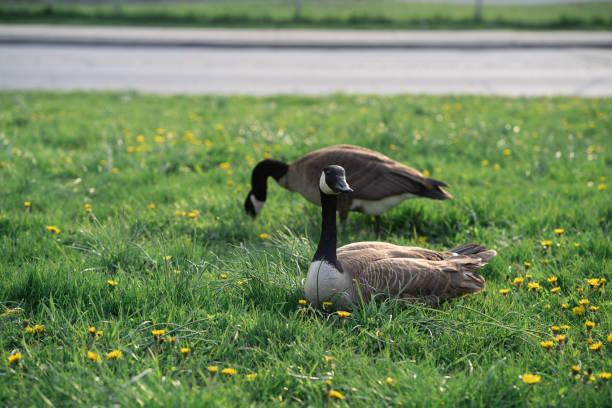Canadian-Goose: (307, 164, 493, 307), (242, 143, 450, 225)
